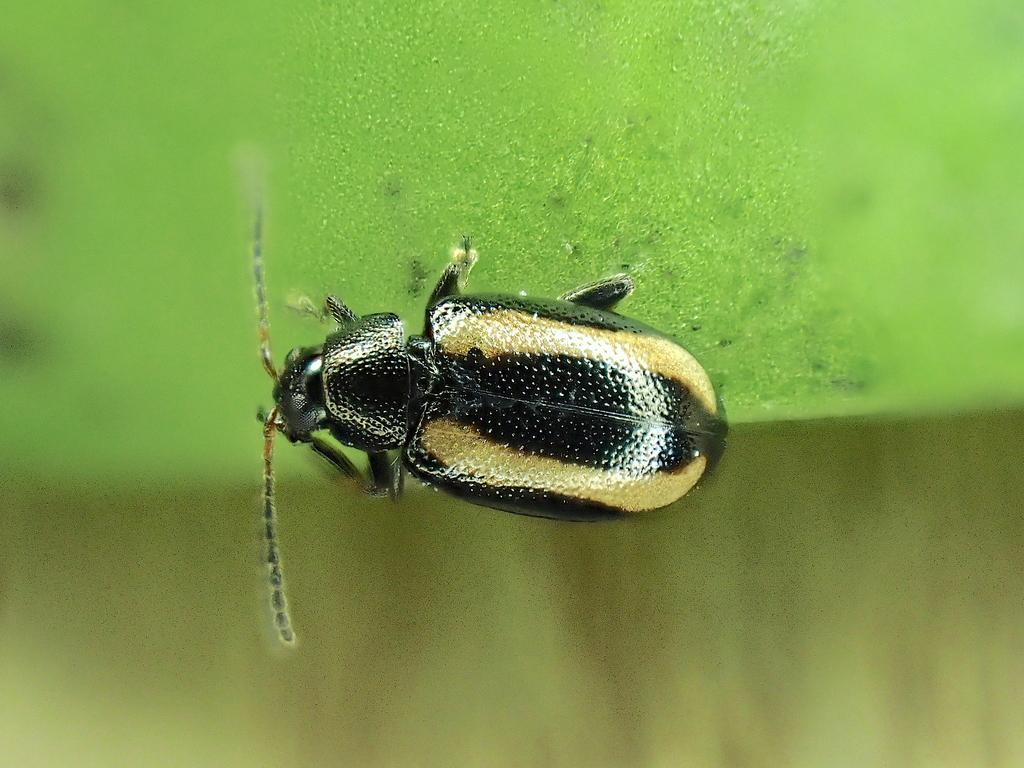flea_beetle: (179, 166, 759, 692)
